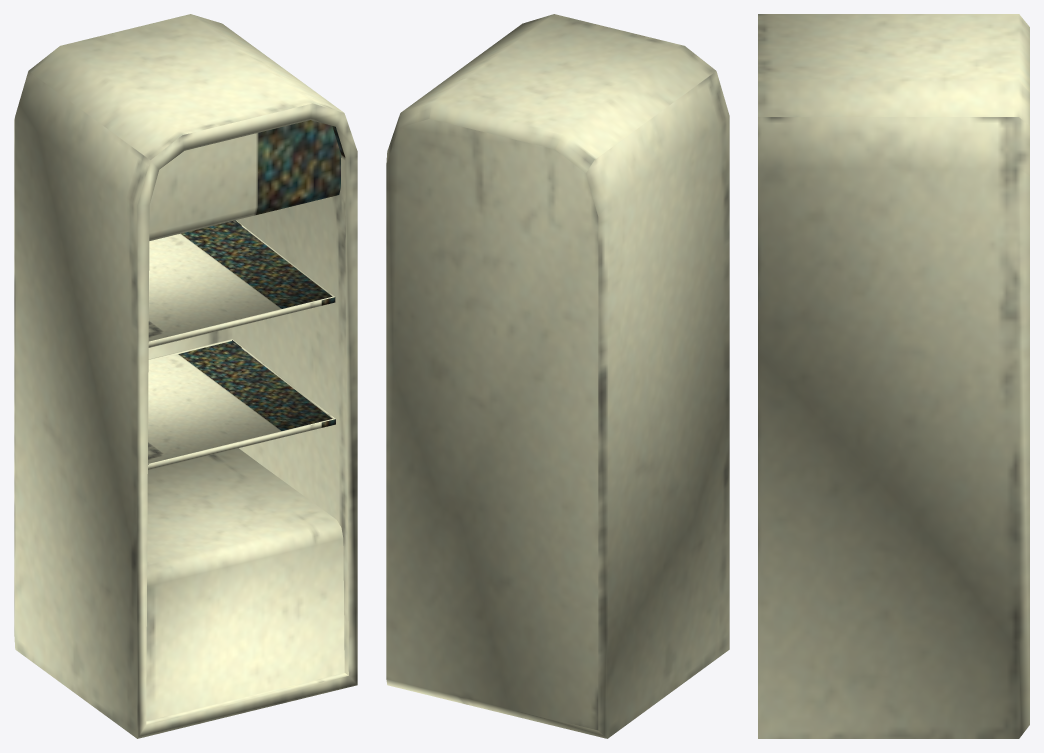
File: Fridge_Free.glb
3 renders of one model, left to right at view 1: azimuth 30°, elevation 25°; view 2: azimuth 150°, elevation 25°; view 3: azimuth 270°, elevation 25°, orthographic. The views are drawn at different scales.
Visible parts, largest first — view 1: fridge close; view 2: fridge close; view 3: fridge close.
Part boxes in pixels (x1=…): fridge close: x1=14, y1=14, x2=357, y2=738; fridge close: x1=386, y1=14, x2=729, y2=738; fridge close: x1=758, y1=14, x2=1029, y2=738.
Size of the model in its own units: 0.7 by 1.8 by 0.7.
Materials: 1 (1 with a texture image).
